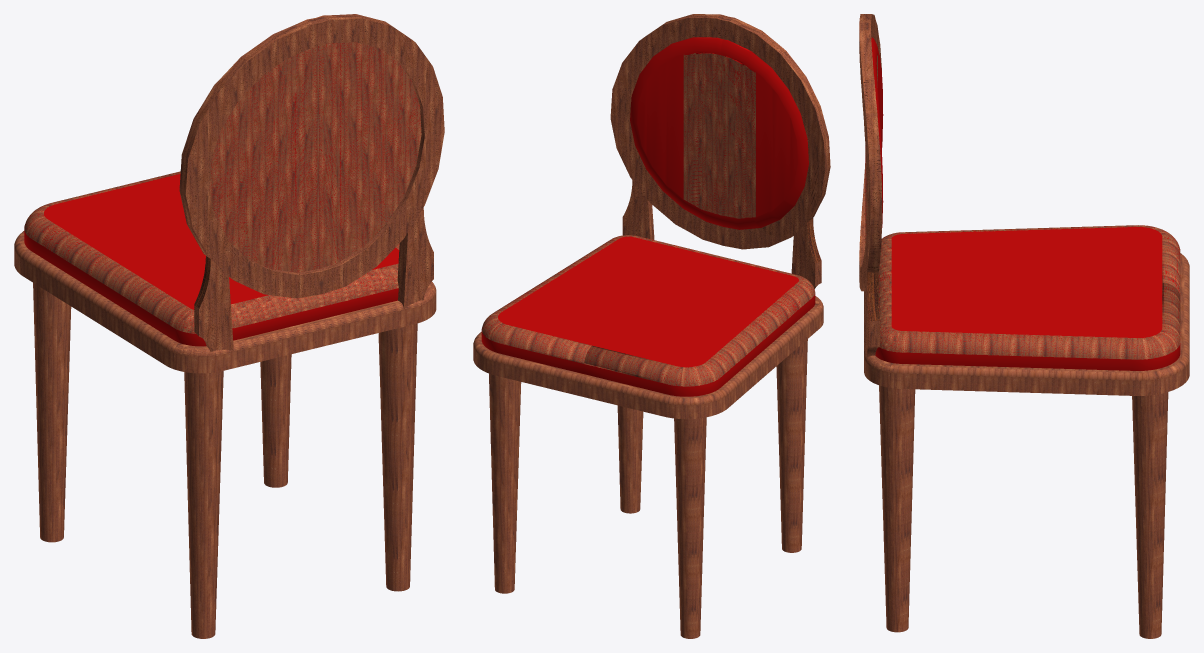
3 renders of one model, left to right at view 1: azimuth 30°, elevation 25°; view 2: azimuth 150°, elevation 25°; view 3: azimuth 270°, elevation 25°, orthographic. The views are drawn at different scales.
Parts seen in each view (by area): view 1: mesh5_mesh5-geometry, mesh4_mesh4-geometry, mesh2_mesh2-geometry, mesh8_mesh8-geometry, mesh12_mesh12-geometry, mesh7_mesh7-geometry, mesh11_mesh11-geometry, mesh10_mesh10-geometry, mesh6_mesh6-geometry, mesh9_mesh9-geometry; view 2: mesh5_mesh5-geometry, mesh6_mesh6-geometry, mesh3_mesh3-geometry, mesh1_mesh1-geometry, mesh8_mesh8-geometry, mesh12_mesh12-geometry, mesh7_mesh7-geometry, mesh11_mesh11-geometry, mesh10_mesh10-geometry, mesh9_mesh9-geometry; view 3: mesh6_mesh6-geometry, mesh5_mesh5-geometry, mesh7_mesh7-geometry, mesh9_mesh9-geometry, mesh11_mesh11-geometry, mesh12_mesh12-geometry, mesh10_mesh10-geometry, mesh3_mesh3-geometry.
Boxes of the visible parts, x1,y1,x2,y2 form: mesh5_mesh5-geometry: (24,178,313,346); mesh4_mesh4-geometry: (209,46,318,272); mesh2_mesh2-geometry: (318,42,421,268); mesh8_mesh8-geometry: (33,283,223,638); mesh12_mesh12-geometry: (179,18,321,351); mesh7_mesh7-geometry: (260,323,417,591); mesh11_mesh11-geometry: (315,14,444,309); mesh10_mesh10-geometry: (14,231,318,373); mesh6_mesh6-geometry: (154,171,399,320); mesh9_mesh9-geometry: (314,281,436,347); mesh5_mesh5-geometry: (584,255,815,396); mesh6_mesh6-geometry: (481,235,716,373); mesh3_mesh3-geometry: (720,39,808,229); mesh1_mesh1-geometry: (630,37,722,226); mesh8_mesh8-geometry: (674,339,807,638); mesh12_mesh12-geometry: (723,16,830,288); mesh7_mesh7-geometry: (489,373,643,593); mesh11_mesh11-geometry: (610,14,727,245); mesh10_mesh10-geometry: (580,296,823,419); mesh9_mesh9-geometry: (473,332,583,395); mesh6_mesh6-geometry: (875,282,1180,370); mesh5_mesh5-geometry: (878,225,1180,295); mesh7_mesh7-geometry: (879,385,1168,638); mesh9_mesh9-geometry: (864,307,1189,395); mesh11_mesh11-geometry: (859,26,882,357); mesh12_mesh12-geometry: (859,14,881,256); mesh10_mesh10-geometry: (864,253,1189,312); mesh3_mesh3-geometry: (871,37,883,148).
Size of the model in its own units: 0.4145 by 0.8018 by 0.4305.
15 materials, 14 textured.
